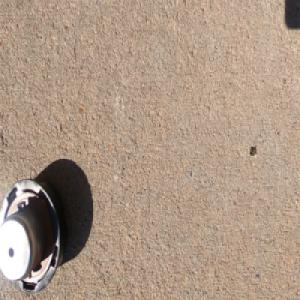FuelCap: (0, 175, 68, 295)
